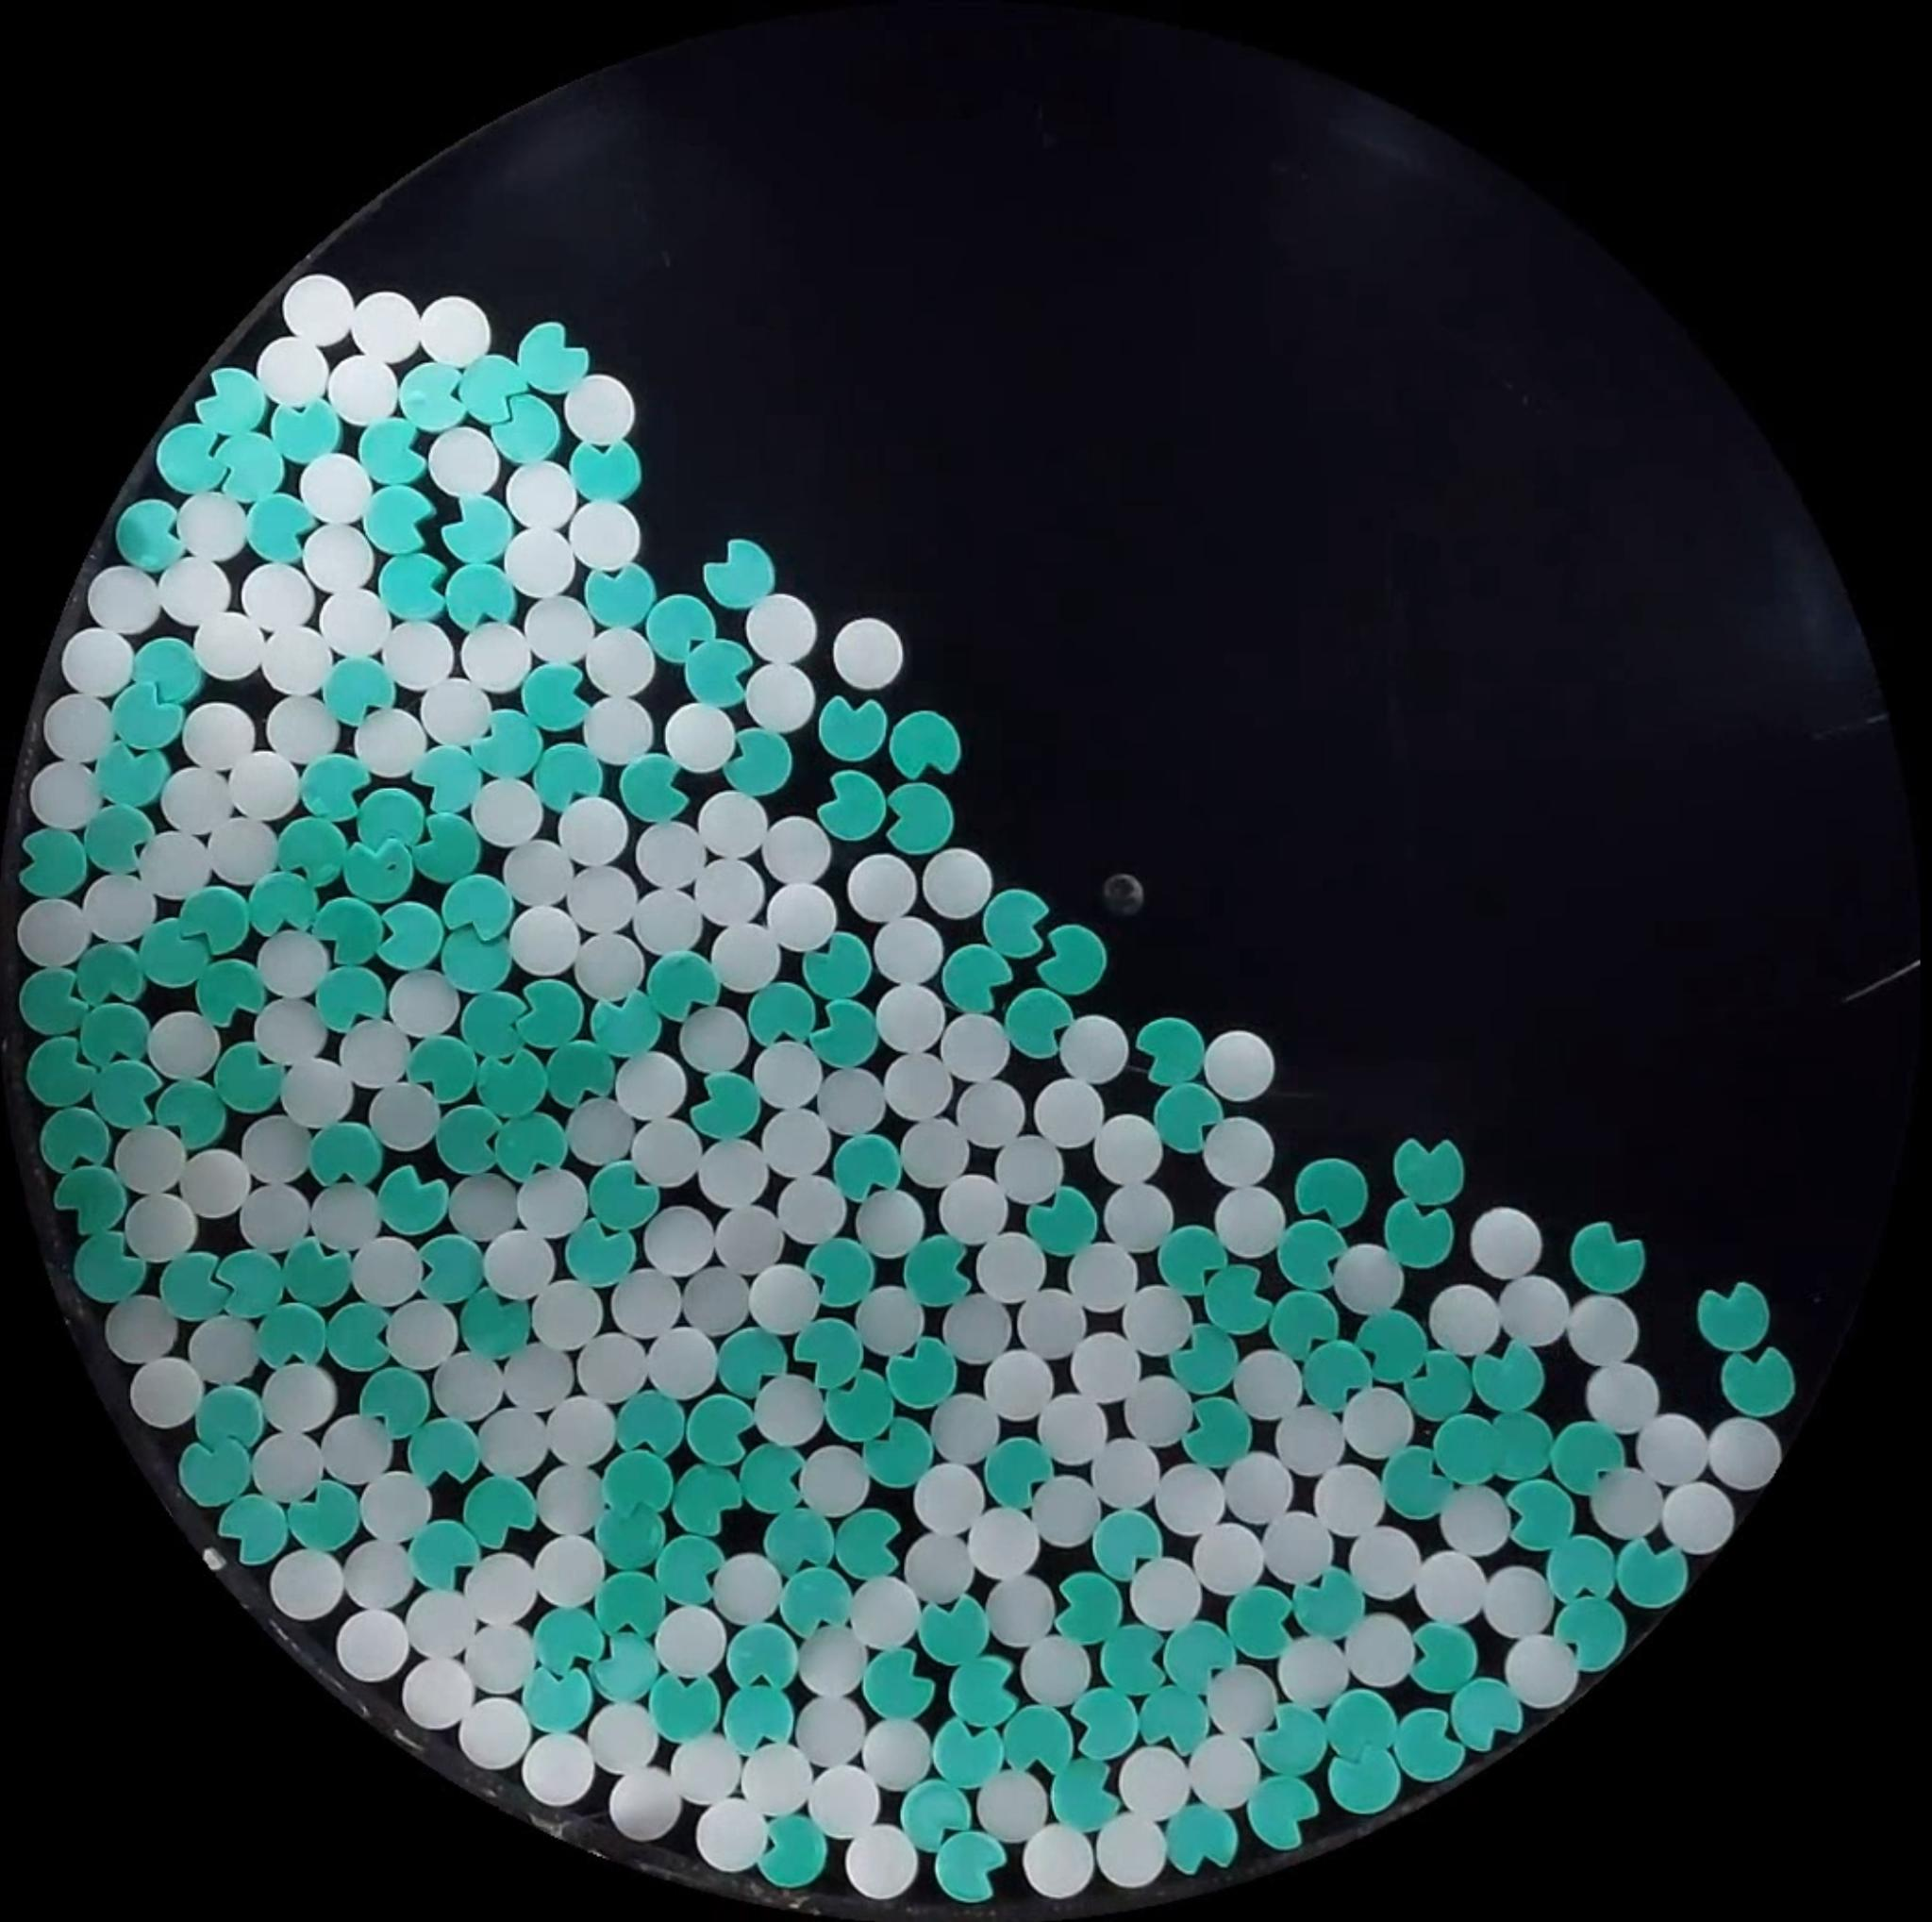disco-pmma: (347, 1466, 436, 1542), (264, 688, 345, 769), (519, 1730, 600, 1809), (632, 880, 713, 959), (899, 1118, 985, 1190), (1658, 1478, 1737, 1556), (1346, 1524, 1425, 1602), (454, 1693, 533, 1771), (607, 1764, 686, 1841), (1705, 1413, 1782, 1493), (238, 1179, 317, 1257), (1014, 1626, 1091, 1706), (333, 1607, 413, 1683), (639, 1325, 720, 1401), (1094, 1434, 1170, 1515), (1439, 1482, 1517, 1559), (586, 1700, 663, 1778), (806, 1762, 883, 1839), (1633, 1412, 1710, 1489), (267, 1545, 347, 1621), (1147, 1456, 1223, 1535), (984, 1126, 1066, 1199), (1117, 1373, 1200, 1445), (329, 1021, 413, 1091), (1202, 1670, 1286, 1741), (1480, 1563, 1555, 1640), (278, 1053, 355, 1128), (1584, 1359, 1661, 1434), (86, 563, 165, 637), (686, 859, 772, 926), (1070, 1329, 1145, 1405), (1189, 1521, 1265, 1596), (1184, 1734, 1260, 1809), (301, 521, 377, 597), (741, 1741, 816, 1816), (669, 1732, 744, 1808), (1341, 1612, 1416, 1688), (16, 896, 91, 972), (695, 1795, 771, 1871), (795, 1691, 871, 1767), (1117, 1746, 1193, 1822), (845, 1825, 920, 1901), (709, 917, 787, 991), (503, 525, 581, 598), (1564, 1294, 1642, 1368), (190, 611, 267, 685), (1503, 1633, 1580, 1707), (913, 1464, 987, 1542), (1235, 1348, 1313, 1422), (350, 1234, 426, 1308), (966, 1505, 1040, 1581), (611, 1267, 686, 1341), (384, 1295, 459, 1369), (225, 748, 301, 822), (1094, 1813, 1168, 1889), (128, 1355, 204, 1429), (653, 1602, 728, 1676), (178, 1148, 253, 1221), (1469, 1206, 1545, 1280), (1497, 1273, 1573, 1346), (797, 1621, 873, 1695), (1038, 1392, 1114, 1466), (1260, 1508, 1336, 1582), (250, 1427, 327, 1500), (135, 827, 213, 899), (181, 699, 259, 771), (239, 563, 317, 635), (950, 1075, 1028, 1148), (1592, 1461, 1663, 1540), (897, 1535, 978, 1603), (1425, 1542, 1490, 1626), (482, 1229, 556, 1302), (370, 1077, 443, 1151), (565, 864, 639, 938), (259, 621, 333, 695), (176, 491, 250, 565), (1429, 1281, 1503, 1355), (238, 1112, 311, 1186), (1065, 1239, 1138, 1313), (479, 1406, 553, 1480), (123, 1190, 199, 1262), (79, 871, 155, 943), (632, 1116, 707, 1188), (584, 625, 660, 697), (299, 452, 375, 525), (60, 625, 135, 697), (568, 498, 644, 570), (160, 560, 236, 632), (933, 1392, 1005, 1468), (1033, 1477, 1109, 1549), (1121, 1287, 1197, 1359), (255, 1361, 333, 1431), (973, 1236, 1052, 1304), (934, 1174, 1017, 1239), (380, 620, 454, 692), (748, 1262, 822, 1334), (984, 1348, 1056, 1422), (146, 1009, 220, 1081), (470, 776, 544, 848), (765, 880, 839, 952), (28, 757, 102, 829), (975, 1771, 1049, 1843), (558, 794, 630, 868), (533, 1533, 607, 1605), (1024, 1825, 1096, 1899), (744, 660, 818, 732), (1332, 1241, 1406, 1313), (507, 905, 581, 977), (204, 813, 278, 885), (1204, 1028, 1277, 1100), (318, 586, 392, 658), (282, 273, 355, 345), (1269, 1399, 1341, 1473), (252, 996, 327, 1067), (523, 593, 598, 664), (465, 1623, 540, 1693), (992, 1572, 1063, 1647), (1277, 1637, 1353, 1707), (406, 1577, 473, 1656), (459, 621, 531, 693), (1214, 1185, 1286, 1257), (760, 1105, 832, 1177), (862, 1718, 934, 1790), (1228, 1456, 1300, 1528), (419, 676, 493, 746), (665, 702, 739, 773), (114, 1126, 188, 1197), (385, 968, 459, 1038), (255, 929, 329, 1000), (584, 695, 658, 766), (104, 1294, 178, 1364), (563, 373, 637, 444), (419, 296, 493, 366), (347, 1538, 417, 1612), (501, 1346, 575, 1417), (695, 1141, 774, 1206), (832, 620, 904, 690), (922, 847, 994, 917), (873, 913, 945, 984), (760, 815, 832, 885), (354, 706, 426, 776), (505, 838, 577, 908), (257, 334, 329, 405), (428, 426, 500, 496), (1057, 1014, 1130, 1084), (746, 593, 818, 664), (505, 461, 577, 532), (42, 693, 114, 764), (350, 290, 422, 361), (405, 1660, 475, 1732), (535, 1464, 605, 1537), (1202, 1116, 1276, 1185), (630, 820, 706, 887), (514, 1165, 589, 1232), (574, 931, 644, 1001), (1035, 1077, 1105, 1148), (848, 852, 918, 922), (648, 1207, 718, 1278), (871, 984, 943, 1053), (859, 1288, 931, 1357), (762, 1378, 827, 1454), (609, 1056, 686, 1119), (327, 356, 398, 424), (433, 1352, 503, 1420), (716, 1556, 787, 1625), (1318, 1463, 1387, 1533), (315, 1176, 382, 1248), (537, 1280, 609, 1346), (1344, 1389, 1416, 1456), (693, 796, 767, 861), (882, 1054, 955, 1119), (1101, 1185, 1175, 1250), (470, 1559, 544, 1625), (190, 1317, 259, 1385), (802, 1443, 871, 1512), (938, 1014, 1008, 1081), (158, 767, 231, 833), (714, 1206, 787, 1271), (1128, 1561, 1200, 1626), (551, 1392, 614, 1466), (683, 1003, 753, 1068), (753, 1042, 823, 1107), (850, 1577, 920, 1642), (589, 1331, 653, 1403), (1096, 1114, 1160, 1186), (570, 1091, 637, 1158), (778, 1176, 846, 1241), (317, 1419, 391, 1478), (676, 1262, 743, 1327), (816, 1067, 883, 1132), (945, 1294, 1014, 1357), (1022, 1290, 1089, 1353), (443, 1176, 509, 1237), (860, 1192, 924, 1251)
